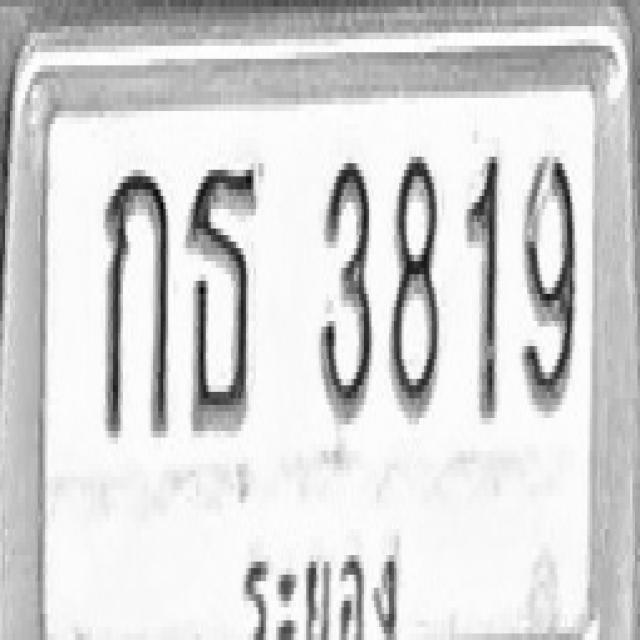1: (464, 150, 500, 418)
10GorGai: (103, 163, 168, 438)
3: (318, 154, 372, 422)
33ThorThong: (184, 160, 260, 434)
8: (389, 150, 439, 418)
9: (521, 147, 576, 415)
Rayong: (232, 526, 415, 640)
